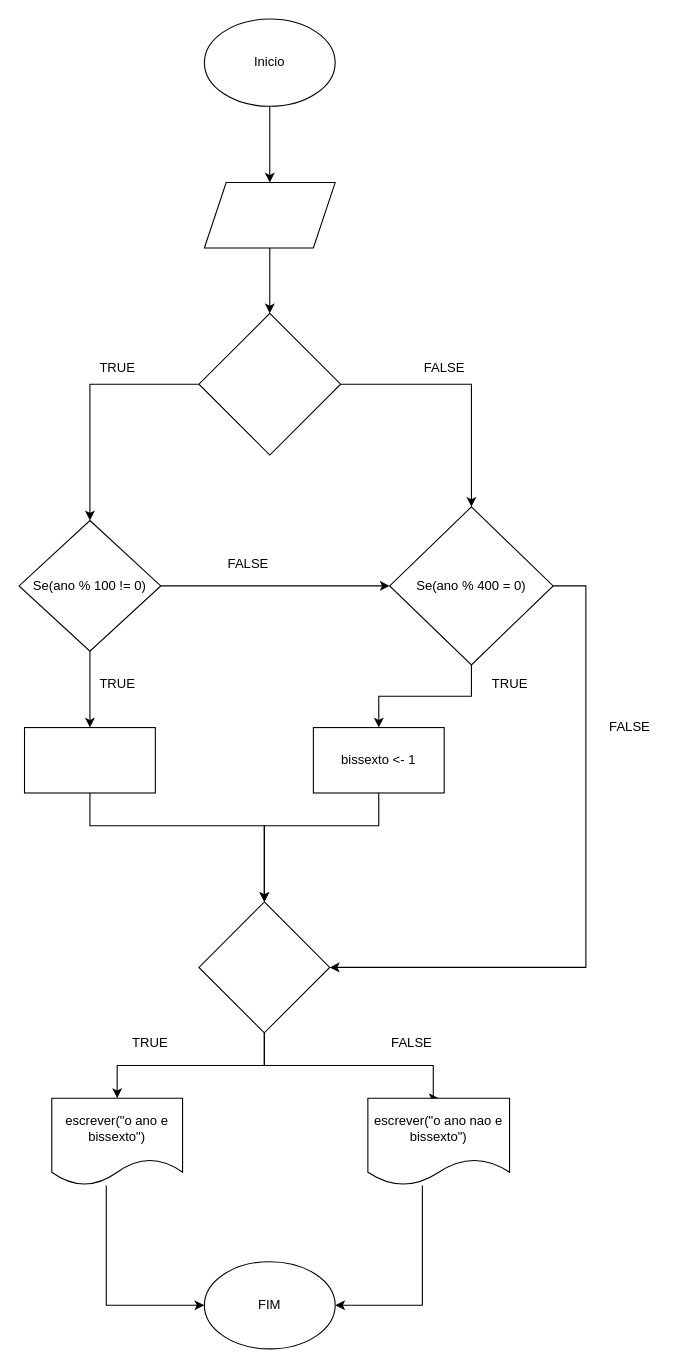
The diagram is 676 pixels wide and 1368 high, and some of its shapes have lost their labels. The shapes that lost their labels are listed below. From the top down, each one's centre as x and y in pixels, then its label:
At (269,214): "ler(ano)".
At (269,383): "se( ano % 4 = 0 )".
At (89,759): "bissexto <-1".
At (264,967): "Se(bissexto = 1)".
